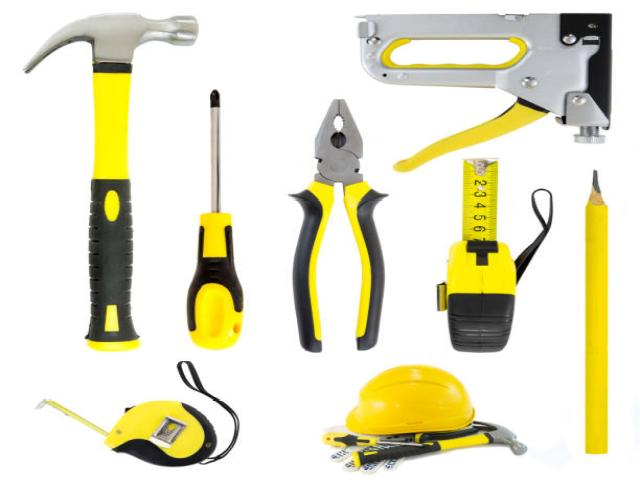Hammer: (25, 13, 198, 351), (352, 422, 528, 466)
Pliers: (291, 99, 386, 352)
Screwdriver: (188, 90, 244, 349), (322, 432, 423, 447)
Tape measure: (436, 158, 554, 352), (38, 361, 240, 466)
